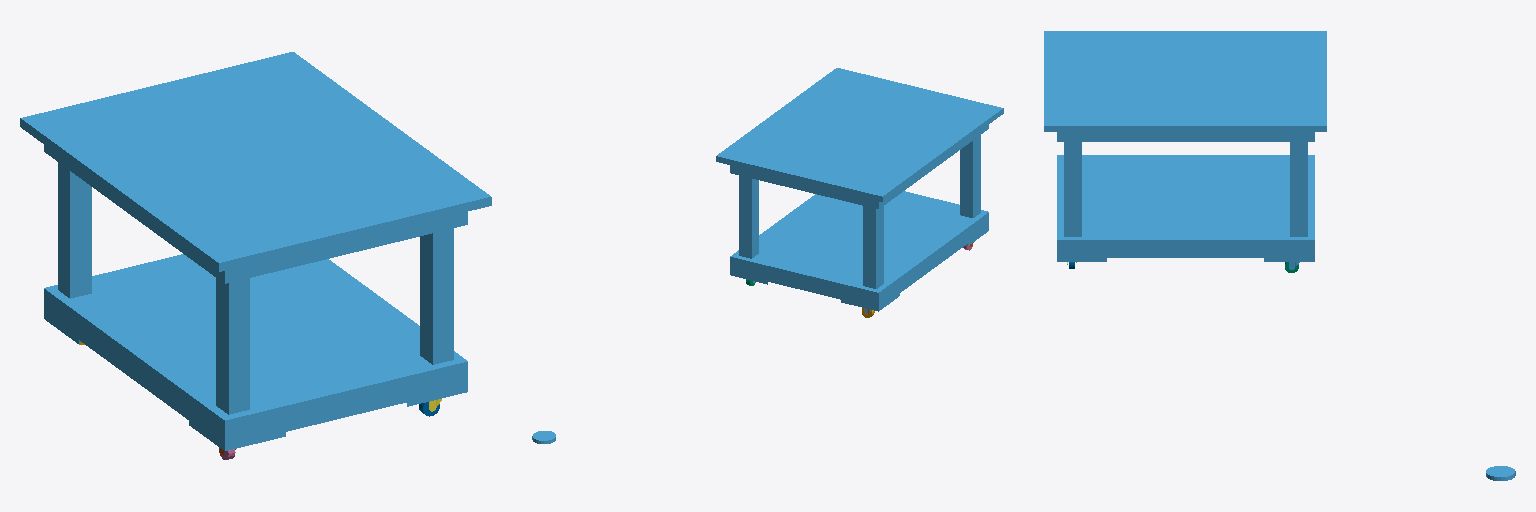
The robot description file, URDF, robot "partnet_138c29cb642dcd6352620f29156438e2":
<?xml version="1.0" ?>
<robot name="partnet_138c29cb642dcd6352620f29156438e2">
	<link name="base"/>
	<link name="link_0">
		<visual name="caster_stem-22">
			<origin xyz="0.606799069797977 0 0.46982091460933856"/>
			<geometry>
				<mesh filename="textured_objs/original-37.obj" scale="0.25 0.25 0.25" />
			</geometry>
		</visual>
		<visual name="caster_stem-22">
			<origin xyz="0.606799069797977 0 0.46982091460933856"/>
			<geometry>
				<mesh filename="textured_objs/original-38.obj" scale="0.7 0.7 0.7" />
			</geometry>
		</visual>
		<collision>
			<origin xyz="0.606799069797977 0 0.46982091460933856"/>
			<geometry>
				<mesh filename="textured_objs/original-37.obj" scale="0.25 0.25 0.25" />
			</geometry>
		</collision>
		<collision>
			<origin xyz="0.606799069797977 0 0.46982091460933856"/>
			<geometry>
				<mesh filename="textured_objs/original-38.obj" scale="0.25 0.25 0.25" />
			</geometry>
		</collision>
	</link>
	<joint name="joint_0" type="fixed">
		<origin xyz="-0.606799069797977 0 -0.46982091460933856"/>
		<axis xyz="0 1 0"/>
		<child link="link_0"/>
		<parent link="link_8"/>
	</joint>
	<link name="link_1">
		<visual name="wheel-23">
			<origin xyz="0.5753904999999999 0.5511784999999999 0"/>
			<geometry>
				<mesh filename="textured_objs/original-36.obj" scale="0.25 0.25 0.25" />
			</geometry>
		</visual>
		<collision>
			<origin xyz="0.5753904999999999 0.5511784999999999 0"/>
			<geometry>
				<mesh filename="textured_objs/original-36.obj" scale="0.25 0.25 0.25" />
			</geometry>
		</collision>
	</link>
	<joint name="joint_1" type="fixed">
		<origin xyz="0.031408569797977126 -0.5511784999999999 0.46982091460933856"/>
		<axis xyz="0 0 1"/>
		<child link="link_1"/>
		<parent link="link_0"/>
	</joint>
	<link name="link_2">
		<visual name="caster_stem-20">
			<origin xyz="-0.6015289615053332 0 0.45847411478613603"/>
			<geometry>
				<mesh filename="textured_objs/original-28.obj" scale="0.25 0.25 0.25" />
			</geometry>
		</visual>
		<visual name="caster_stem-20">
			<origin xyz="-0.6015289615053332 0 0.45847411478613603"/>
			<geometry>
				<mesh filename="textured_objs/original-29.obj" scale="0.25 0.25 0.25" />
			</geometry>
		</visual>
		<collision>
			<origin xyz="-0.6015289615053332 0 0.45847411478613603"/>
			<geometry>
				<mesh filename="textured_objs/original-28.obj" scale="0.25 0.25 0.25" />
			</geometry>
		</collision>
		<collision>
			<origin xyz="-0.6015289615053332 0 0.45847411478613603"/>
			<geometry>
				<mesh filename="textured_objs/original-29.obj" scale="0.25 0.25 0.25" />
			</geometry>
		</collision>
	</link>
	<joint name="joint_2" type="fixed">
		<origin xyz="0.6015289615053332 0 -0.45847411478613603"/>
		<axis xyz="0 1 0"/>
		<child link="link_2"/>
		<parent link="link_8"/>
	</joint>
	<link name="link_3">
		<visual name="wheel-21">
			<origin xyz="-0.6243054491276966 0.5514421963839776 0.42814229096345746"/>
			<geometry>
				<mesh filename="textured_objs/original-27.obj" scale="0.25 0.25 0.25" />
			</geometry>
		</visual>
		<collision>
			<origin xyz="-0.6243054491276966 0.5514421963839776 0.42814229096345746"/>
			<geometry>
				<mesh filename="textured_objs/original-27.obj" scale="0.25 0.25 0.25" />
			</geometry>
		</collision>
	</link>
	<joint name="joint_3" type="fixed">
		<origin xyz="0.022776487622363395 -0.5514421963839776 0.030331823822678572"/>
		<axis xyz="0.9999999993838132 6.0259324194091366e-06 -3.458412586590247e-05"/>
		<child link="link_3"/>
		<parent link="link_2"/>
	</joint>
	<link name="link_4">
		<visual name="caster_stem-18">
			<origin xyz="-0.5901816443331189 0 -0.43996147110157713"/>
			<geometry>
				<mesh filename="textured_objs/original-21.obj" scale="0.25 0.25 0.25" />
			</geometry>
		</visual>
		<visual name="caster_stem-18">
			<origin xyz="-0.5901816443331189 0 -0.43996147110157713"/>
			<geometry>
				<mesh filename="textured_objs/original-20.obj" scale="0.25 0.25 0.25" />
			</geometry>
		</visual>
		<collision>
			<origin xyz="-0.5901816443331189 0 -0.43996147110157713"/>
			<geometry>
				<mesh filename="textured_objs/original-21.obj" scale="0.25 0.25 0.25" />
			</geometry>
		</collision>
		<collision>
			<origin xyz="-0.5901816443331189 0 -0.43996147110157713"/>
			<geometry>
				<mesh filename="textured_objs/original-20.obj" scale="0.25 0.25 0.25" />
			</geometry>
		</collision>
	</link>
	<joint name="joint_4" type="fixed">
		<origin xyz="0.5901816443331189 0 0.43996147110157713"/>
		<axis xyz="0 1 0"/>
		<child link="link_4"/>
		<parent link="link_8"/>
	</joint>
	<link name="link_5">
		<visual name="wheel-19">
			<origin xyz="-0.5587737868012876 0.5511784999999999 0"/>
			<geometry>
				<mesh filename="textured_objs/original-19.obj" scale="0.25 0.25 0.25" />
			</geometry>
		</visual>
		<collision>
			<origin xyz="-0.5587737868012876 0.5511784999999999 0"/>
			<geometry>
				<mesh filename="textured_objs/original-19.obj" scale="0.25 0.25 0.25" />
			</geometry>
		</collision>
	</link>
	<joint name="joint_5" type="fixed">
		<origin xyz="-0.031407857531831285 -0.5511784999999999 -0.43996147110157713"/>
		<axis xyz="0 0 -1"/>
		<child link="link_5"/>
		<parent link="link_4"/>
	</joint>
	<link name="link_6">
		<visual name="caster_stem-16">
			<origin xyz="0.6181829999999999 0 -0.42662500000000003"/>
			<geometry>
				<mesh filename="textured_objs/original-45.obj" scale="0.25 0.25 0.25" />
			</geometry>
		</visual>
		<visual name="caster_stem-16">
			<origin xyz="0.6181829999999999 0 -0.42662500000000003"/>
			<geometry>
				<mesh filename="textured_objs/original-46.obj" scale="0.25 0.25 0.25" />
			</geometry>
		</visual>
		<collision>
			<origin xyz="0.6181829999999999 0 -0.42662500000000003"/>
			<geometry>
				<mesh filename="textured_objs/original-45.obj" scale="0.25 0.25 0.25" />
			</geometry>
		</collision>
		<collision>
			<origin xyz="0.6181829999999999 0 -0.42662500000000003"/>
			<geometry>
				<mesh filename="textured_objs/original-46.obj" scale="0.25 0.25 0.25" />
			</geometry>
		</collision>
	</link>
	<joint name="joint_6" type="fixed">
		<origin xyz="-0.6181829999999999 0 0.42662500000000003"/>
		<axis xyz="0 1 0"/>
		<child link="link_6"/>
		<parent link="link_8"/>
	</joint>
	<link name="link_7">
		<visual name="wheel-17">
			<origin xyz="0.640922 0.5512141919173537 -0.39798255958692286"/>
			<geometry>
				<mesh filename="textured_objs/original-44.obj" scale="0.25 0.25 0.25" />
			</geometry>
		</visual>
		<collision>
			<origin xyz="0.640922 0.5512141919173537 -0.39798255958692286"/>
			<geometry>
				<mesh filename="textured_objs/original-44.obj" scale="0.25 0.25 0.25" />
			</geometry>
		</collision>
	</link>
	<joint name="joint_7" type="fixed">
		<origin xyz="-0.022739000000000065 -0.5512141919173537 -0.028642440413077175"/>
		<axis xyz="1 0 0"/>
		<child link="link_7"/>
		<parent link="link_6"/>
	</joint>
	<link name="link_8">
		<visual name="board-40">
			<origin xyz="0 0 0"/>
			<geometry>
				<mesh filename="textured_objs/original-51.obj" scale="0.25 0.25 0.25" />
			</geometry>
		</visual>
		<visual name="board-40">
			<origin xyz="0 0 0"/>
			<geometry>
				<mesh filename="textured_objs/original-50.obj" scale="0.25 0.25 0.25" />
			</geometry>
		</visual>
		<visual name="vertical_divider_panel-7">
			<origin xyz="0 0 0"/>
			<geometry>
				<mesh filename="textured_objs/original-11.obj" scale="0.25 0.25 0.25" />
			</geometry>
		</visual>
		<visual name="leg-8">
			<origin xyz="0 0 0"/>
			<geometry>
				<mesh filename="textured_objs/original-4.obj" scale="0.25 0.25 0.25" />
			</geometry>
		</visual>
		<visual name="leg-9">
			<origin xyz="0 0 0"/>
			<geometry>
				<mesh filename="textured_objs/original-3.obj" scale="0.25 0.25 0.25" />
			</geometry>
		</visual>
		<visual name="leg-10">
			<origin xyz="0 0 0"/>
			<geometry>
				<mesh filename="textured_objs/original-2.obj" scale="0.25 0.25 0.25" />
			</geometry>
		</visual>
		<visual name="leg-11">
			<origin xyz="0 0 0"/>
			<geometry>
				<mesh filename="textured_objs/original-5.obj" scale="0.25 0.25 0.25" />
			</geometry>
		</visual>
		<visual name="shelf-24">
			<origin xyz="0 0 0"/>
			<geometry>
				<mesh filename="textured_objs/original-13.obj" scale="0.25 0.25 0.25" />
			</geometry>
		</visual>
		<visual name="base_side_panel-25">
			<origin xyz="0 0 0"/>
			<geometry>
				<mesh filename="textured_objs/original-10.obj" scale="0.25 0.25 0.25" />
			</geometry>
		</visual>
		<visual name="base_side_panel-26">
			<origin xyz="0 0 0"/>
			<geometry>
				<mesh filename="textured_objs/original-12.obj" scale="0.25 0.25 0.25" />
			</geometry>
		</visual>
		<visual name="base_side_panel-27">
			<origin xyz="0 0 0"/>
			<geometry>
				<mesh filename="textured_objs/original-9.obj" scale="0.25 0.25 0.25" />
			</geometry>
		</visual>
		<visual name="base_side_panel-28">
			<origin xyz="0 0 0"/>
			<geometry>
				<mesh filename="textured_objs/original-8.obj" scale="0.25 0.25 0.25" />
			</geometry>
		</visual>
		<visual name="tabletop_connector-29">
			<origin xyz="0 0 0"/>
			<geometry>
				<mesh filename="textured_objs/original-58.obj" scale="0.25 0.25 0.25" />
			</geometry>
		</visual>
		<visual name="tabletop_connector-30">
			<origin xyz="0 0 0"/>
			<geometry>
				<mesh filename="textured_objs/original-56.obj" scale="0.25 0.25 0.25" />
			</geometry>
		</visual>
		<visual name="tabletop_connector-31">
			<origin xyz="0 0 0"/>
			<geometry>
				<mesh filename="textured_objs/original-54.obj" scale="0.25 0.25 0.25" />
			</geometry>
		</visual>
		<visual name="tabletop_connector-32">
			<origin xyz="0 0 0"/>
			<geometry>
				<mesh filename="textured_objs/original-53.obj" scale="0.25 0.25 0.25" />
			</geometry>
		</visual>
		<visual name="tabletop_connector-33">
			<origin xyz="0 0 0"/>
			<geometry>
				<mesh filename="textured_objs/original-57.obj" scale="0.25 0.25 0.25" />
			</geometry>
		</visual>
		<visual name="tabletop_connector-34">
			<origin xyz="0 0 0"/>
			<geometry>
				<mesh filename="textured_objs/original-55.obj" scale="0.25 0.25 0.25" />
			</geometry>
		</visual>
		<visual name="bottom_panel-35">
			<origin xyz="0 0 0"/>
			<geometry>
				<mesh filename="textured_objs/original-40.obj" scale="0.25 0.25 0.25" />
			</geometry>
		</visual>
		<visual name="bottom_panel-36">
			<origin xyz="0 0 0"/>
			<geometry>
				<mesh filename="textured_objs/original-48.obj" scale="0.25 0.25 0.25" />
			</geometry>
		</visual>
		<visual name="bottom_panel-37">
			<origin xyz="0 0 0"/>
			<geometry>
				<mesh filename="textured_objs/original-23.obj" scale="0.25 0.25 0.25" />
			</geometry>
		</visual>
		<visual name="bottom_panel-38">
			<origin xyz="0 0 0"/>
			<geometry>
				<mesh filename="textured_objs/original-30.obj" scale="0.25 0.25 0.25" />
			</geometry>
		</visual>
		<visual name="bottom_panel-38">
			<origin xyz="0 0 0"/>
			<geometry>
				<mesh filename="textured_objs/original-31.obj" scale="0.25 0.25 0.25" />
			</geometry>
		</visual>
		<collision>
			<origin xyz="0 0 0"/>
			<geometry>
				<mesh filename="textured_objs/original-51.obj" scale="0.25 0.25 0.25" />
			</geometry>
		</collision>
		<collision>
			<origin xyz="0 0 0"/>
			<geometry>
				<mesh filename="textured_objs/original-50.obj" scale="0.25 0.25 0.25" />
			</geometry>
		</collision>
		<collision>
			<origin xyz="0 0 0"/>
			<geometry>
				<mesh filename="textured_objs/original-11.obj" scale="0.25 0.25 0.25" />
			</geometry>
		</collision>
		<collision>
			<origin xyz="0 0 0"/>
			<geometry>
				<mesh filename="textured_objs/original-4.obj" scale="0.25 0.25 0.25" />
			</geometry>
		</collision>
		<collision>
			<origin xyz="0 0 0"/>
			<geometry>
				<mesh filename="textured_objs/original-3.obj" scale="0.25 0.25 0.25" />
			</geometry>
		</collision>
		<collision>
			<origin xyz="0 0 0"/>
			<geometry>
				<mesh filename="textured_objs/original-2.obj" scale="0.25 0.25 0.25" />
			</geometry>
		</collision>
		<collision>
			<origin xyz="0 0 0"/>
			<geometry>
				<mesh filename="textured_objs/original-5.obj" scale="0.25 0.25 0.25" />
			</geometry>
		</collision>
		<collision>
			<origin xyz="0 0 0"/>
			<geometry>
				<mesh filename="textured_objs/original-13.obj" scale="0.25 0.25 0.25" />
			</geometry>
		</collision>
		<collision>
			<origin xyz="0 0 0"/>
			<geometry>
				<mesh filename="textured_objs/original-10.obj" scale="0.25 0.25 0.25" />
			</geometry>
		</collision>
		<collision>
			<origin xyz="0 0 0"/>
			<geometry>
				<mesh filename="textured_objs/original-12.obj" scale="0.25 0.25 0.25" />
			</geometry>
		</collision>
		<collision>
			<origin xyz="0 0 0"/>
			<geometry>
				<mesh filename="textured_objs/original-9.obj" scale="0.25 0.25 0.25" />
			</geometry>
		</collision>
		<collision>
			<origin xyz="0 0 0"/>
			<geometry>
				<mesh filename="textured_objs/original-8.obj" scale="0.25 0.25 0.25" />
			</geometry>
		</collision>
		<collision>
			<origin xyz="0 0 0"/>
			<geometry>
				<mesh filename="textured_objs/original-58.obj" scale="0.25 0.25 0.25" />
			</geometry>
		</collision>
		<collision>
			<origin xyz="0 0 0"/>
			<geometry>
				<mesh filename="textured_objs/original-56.obj" scale="0.25 0.25 0.25" />
			</geometry>
		</collision>
		<collision>
			<origin xyz="0 0 0"/>
			<geometry>
				<mesh filename="textured_objs/original-54.obj" scale="0.25 0.25 0.25" />
			</geometry>
		</collision>
		<collision>
			<origin xyz="0 0 0"/>
			<geometry>
				<mesh filename="textured_objs/original-53.obj" scale="0.25 0.25 0.25" />
			</geometry>
		</collision>
		<collision>
			<origin xyz="0 0 0"/>
			<geometry>
				<mesh filename="textured_objs/original-57.obj" scale="0.25 0.25 0.25" />
			</geometry>
		</collision>
		<collision>
			<origin xyz="0 0 0"/>
			<geometry>
				<mesh filename="textured_objs/original-55.obj" scale="0.25 0.25 0.25" />
			</geometry>
		</collision>
		<collision>
			<origin xyz="0 0 0"/>
			<geometry>
				<mesh filename="textured_objs/original-40.obj" scale="0.25 0.25 0.25" />
			</geometry>
		</collision>
		<collision>
			<origin xyz="0 0 0"/>
			<geometry>
				<mesh filename="textured_objs/original-48.obj" scale="0.25 0.25 0.25" />
			</geometry>
		</collision>
		<collision>
			<origin xyz="0 0 0"/>
			<geometry>
				<mesh filename="textured_objs/original-23.obj" scale="0.25 0.25 0.25" />
			</geometry>
		</collision>
		<collision>
			<origin xyz="0 0 0"/>
			<geometry>
				<mesh filename="textured_objs/original-30.obj" scale="0.25 0.25 0.25" />
			</geometry>
		</collision>
		<collision>
			<origin xyz="0 0 0"/>
			<geometry>
				<mesh filename="textured_objs/original-31.obj" scale="0.25 0.25 0.25" />
			</geometry>
		</collision>
	</link>
	<joint name="joint_8" type="fixed">
		<origin rpy="1.570796326794897 0 -1.570796326794897" xyz="0 0 0"/>
		<child link="link_8"/>
		<parent link="base"/>
	</joint>
</robot>

--- What the picture shows (computed from the rendered views, not written in the file) ---
The picture shows the robot from 3 angles, left to right: view 1: azimuth 30°, elevation 25°; view 2: azimuth 150°, elevation 25°; view 3: azimuth 270°, elevation 25°; orthographic projection.
Robot: partnet_138c29cb642dcd6352620f29156438e2 — 10 links, 9 joints (9 fixed); root link base; default pose: all joints at 0.
Links seen in each view (by area): view 1: link_8; view 2: link_8; view 3: link_8.
Link boxes in pixels (left/top/right/bottom): link_8: left=20, top=52, right=491, bottom=450; link_8: left=716, top=68, right=1003, bottom=311; link_8: left=1044, top=31, right=1326, bottom=261.
Size in the robot's own frame: 0.4935 by 0.6298 by 0.4347 metres.
Meshes: 35 distinct files referenced, 35 mesh visuals loaded (35 OBJ).